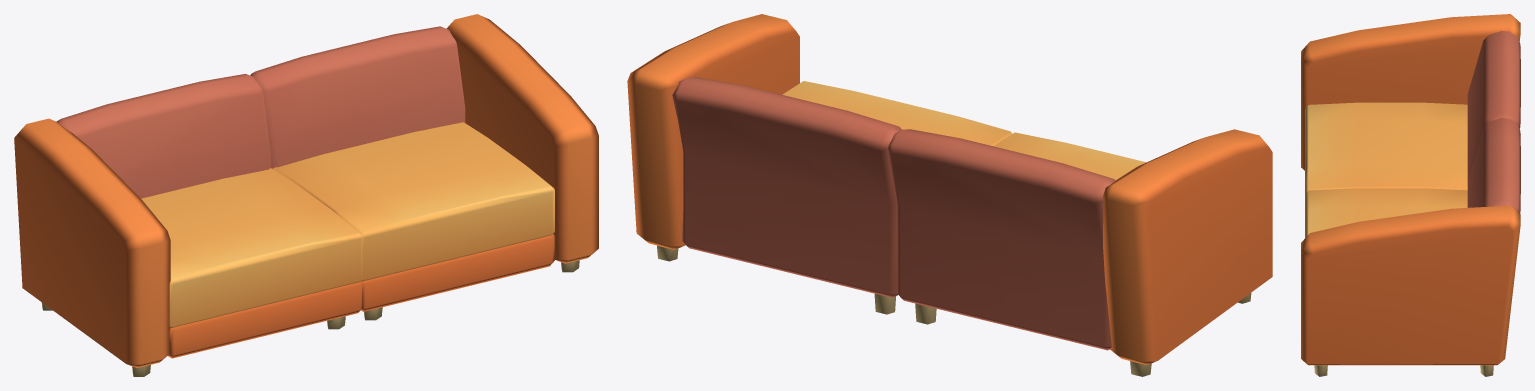
Rendered from sofa4.fbx.
3 renders of one model, left to right at view 1: azimuth 30°, elevation 25°; view 2: azimuth 150°, elevation 25°; view 3: azimuth 270°, elevation 25°, orthographic. The views are drawn at different scales.
Parts seen in each view (by area): view 1: sofa4; view 2: sofa4; view 3: sofa4.
Part boxes in pixels (x1,y1,x2,y2): sofa4: (14,14,598,376); sofa4: (627,14,1272,376); sofa4: (1301,14,1520,376).
Size of the model in its own units: 9.85 by 3.56 by 4.33.
